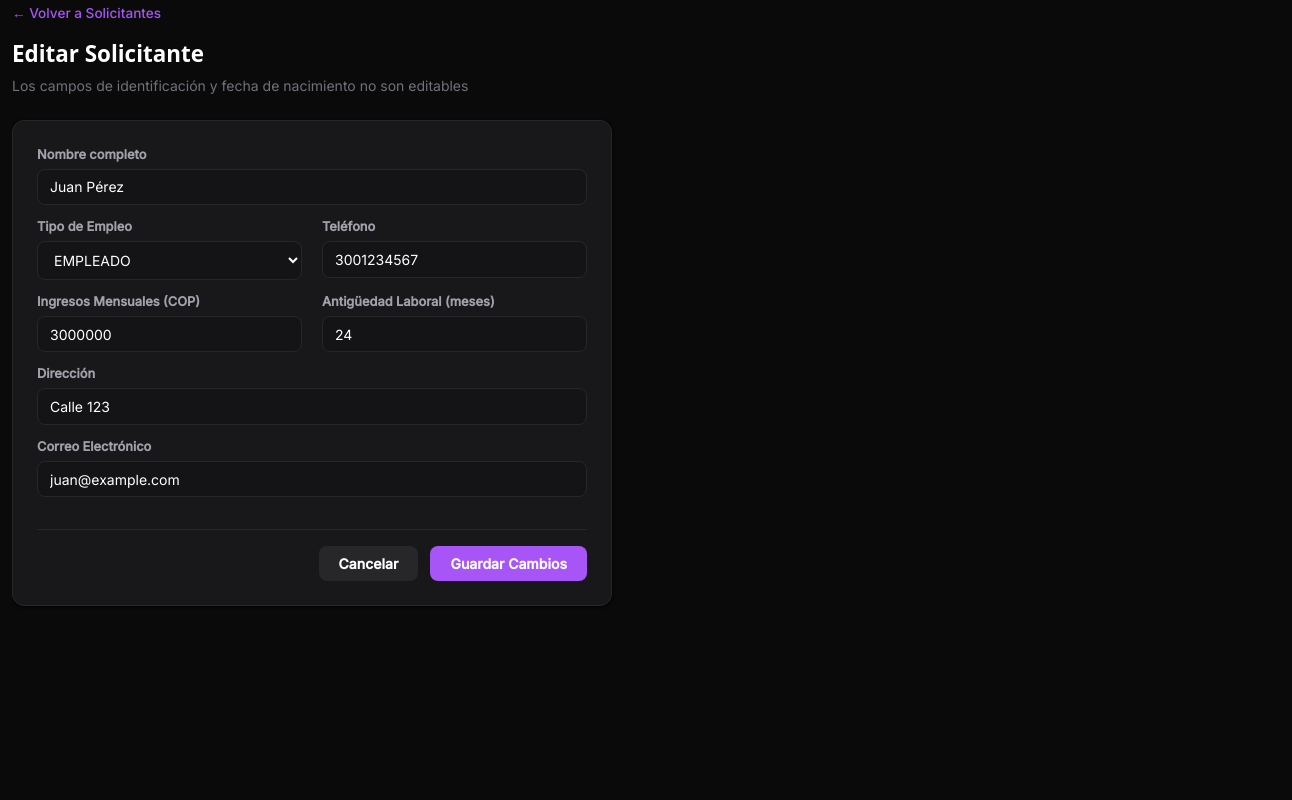
EditApplicant — submit error shows alert › renders .alert.error with error message when updateApplicant rejects
expect the field showing "Juan Pérez" below "Nombre completo" is shown: met, box [37, 169, 587, 205]
Click the button "Guardar Cambios".
click(509, 564)  # box [430, 546, 587, 581]
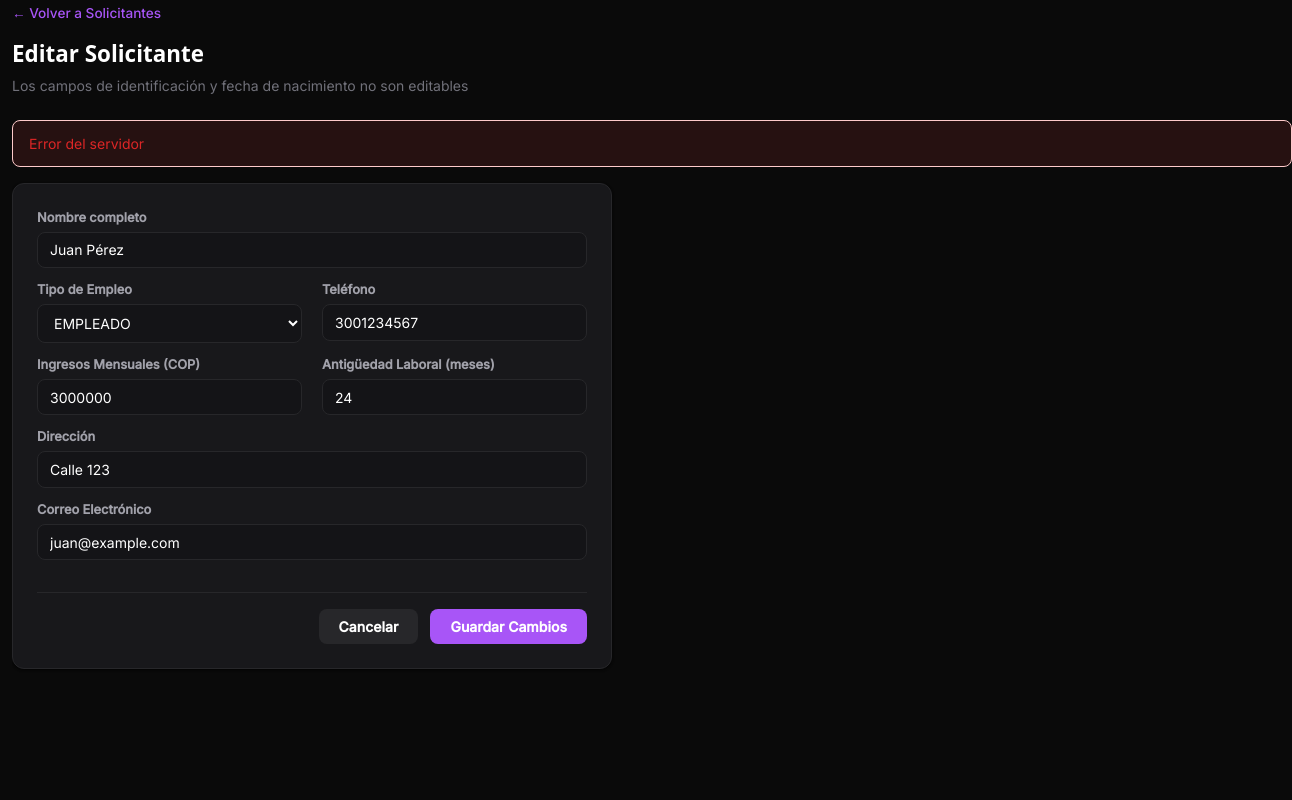
expect the text "Error del servidor" is shown: met, box [12, 120, 1291, 167]
